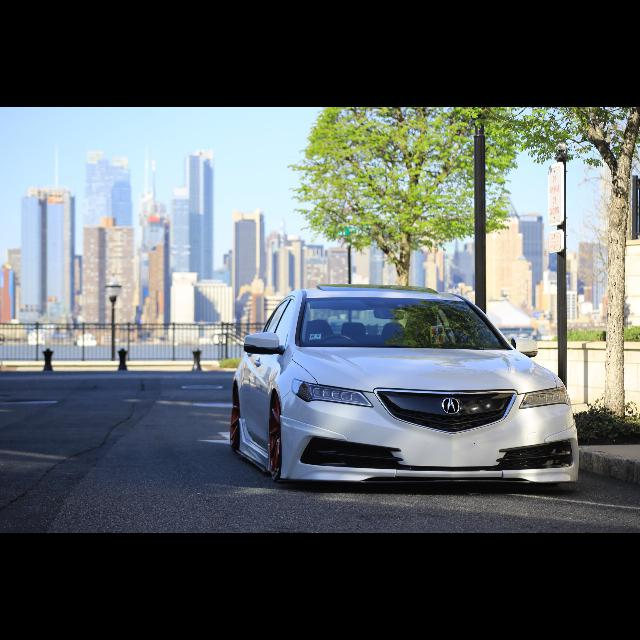cars: (218, 272, 590, 498)
